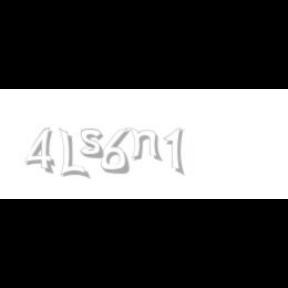1: (163, 128, 185, 176)
4: (24, 128, 56, 174)
6: (101, 128, 130, 176)
L: (59, 128, 87, 180)
n: (129, 128, 163, 162)
s: (80, 128, 108, 160)
